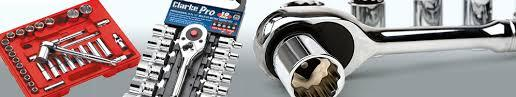wrench: (251, 2, 515, 96), (168, 21, 208, 96), (36, 39, 117, 65)
